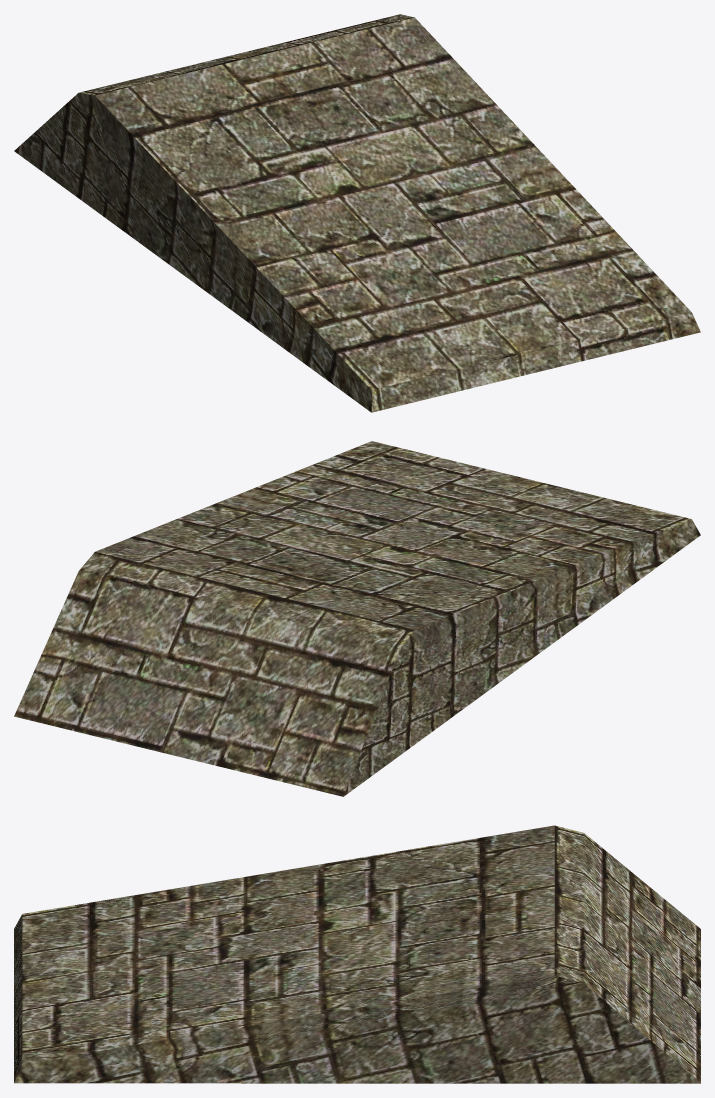
The picture shows the model from 3 angles, top to bottom: view 1: azimuth 30°, elevation 25°; view 2: azimuth 150°, elevation 25°; view 3: azimuth 270°, elevation 25°; orthographic projection. The views are drawn at different scales.
Parts seen in each view (by area): view 1: tn5_st1-col; view 2: tn5_st1-col; view 3: tn5_st1-col.
Part boxes in pixels (left/top/right/bottom): tn5_st1-col: left=14, top=14, right=700, bottom=412; tn5_st1-col: left=14, top=441, right=700, bottom=796; tn5_st1-col: left=14, top=825, right=700, bottom=1083.
Bounding box in the file's own units: 5.15 × 1.65 × 9.68.
1 material, 1 textured.
